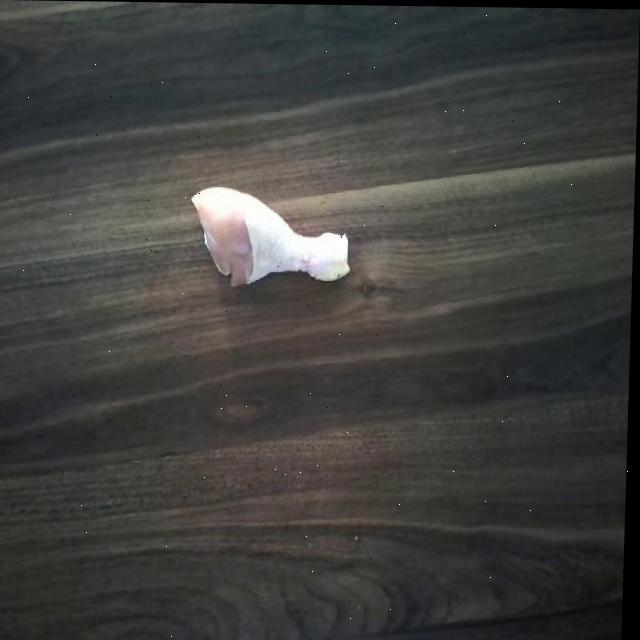leg: (182, 180, 352, 298)
